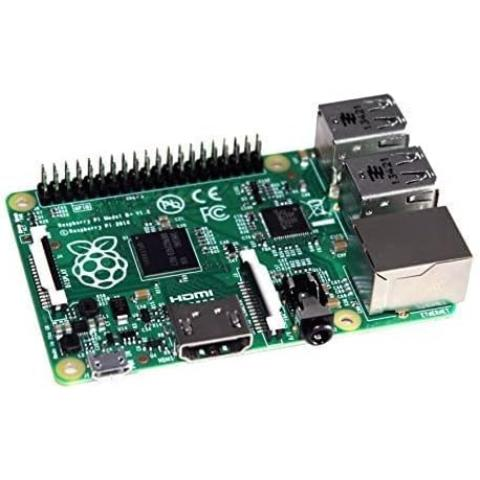Raspberry-Pi-1-Model-B-: (2, 91, 476, 389)
